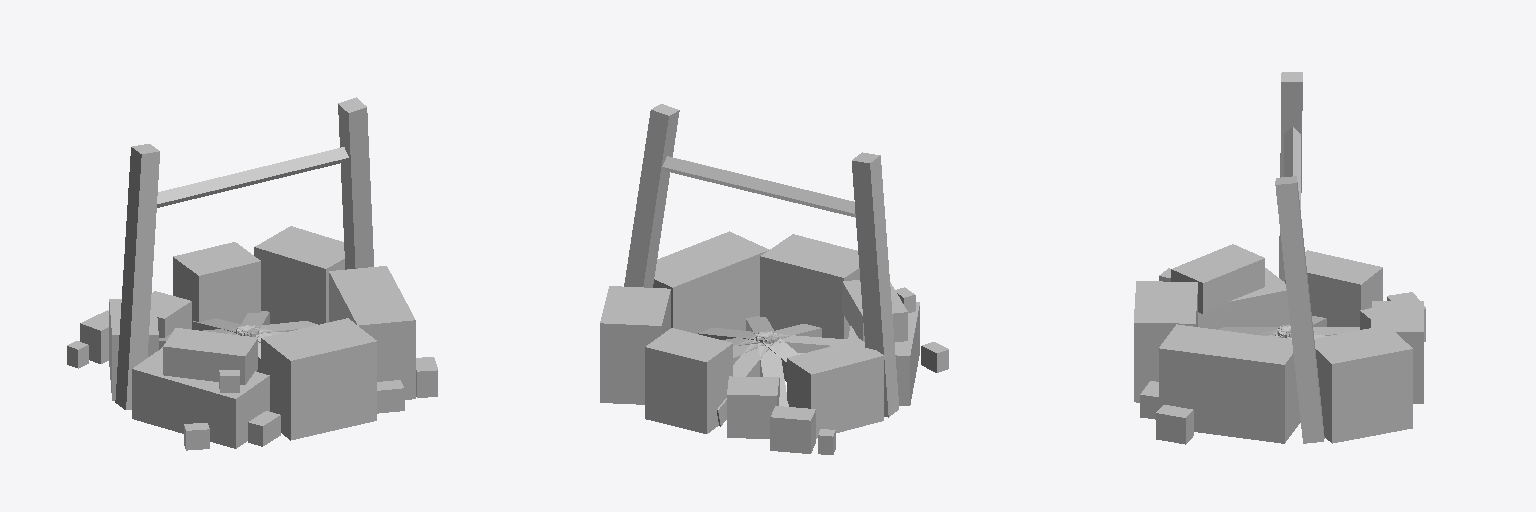
File: fire_pit_with_sticks.obj
3 renders of one model, left to right at view 1: azimuth 30°, elevation 25°; view 2: azimuth 150°, elevation 25°; view 3: azimuth 270°, elevation 25°, orthographic.
Parts seen in each view (by area): view 1: Box007, Box069, Box067, Box068; view 2: Box007, Box069, Box067, Box068, Box052, Box053, Box056; view 3: Box007, Box067, Box069, Box068.
Boxes of the visible parts, x1,y1,x2,y2 form: Box007: [67, 226, 437, 450]; Box069: [115, 144, 159, 409]; Box067: [338, 97, 373, 269]; Box068: [157, 147, 348, 207]; Box007: [600, 231, 948, 454]; Box069: [852, 152, 898, 417]; Box067: [624, 104, 679, 287]; Box068: [662, 156, 855, 217]; Box052: [717, 332, 778, 426]; Box053: [756, 333, 788, 406]; Box056: [758, 333, 847, 352]; Box007: [1134, 244, 1425, 444]; Box067: [1275, 176, 1324, 443]; Box069: [1279, 72, 1302, 281]; Box068: [1284, 127, 1300, 209].
Size of the model in its own units: 1.01 by 0.9286 by 0.9565.